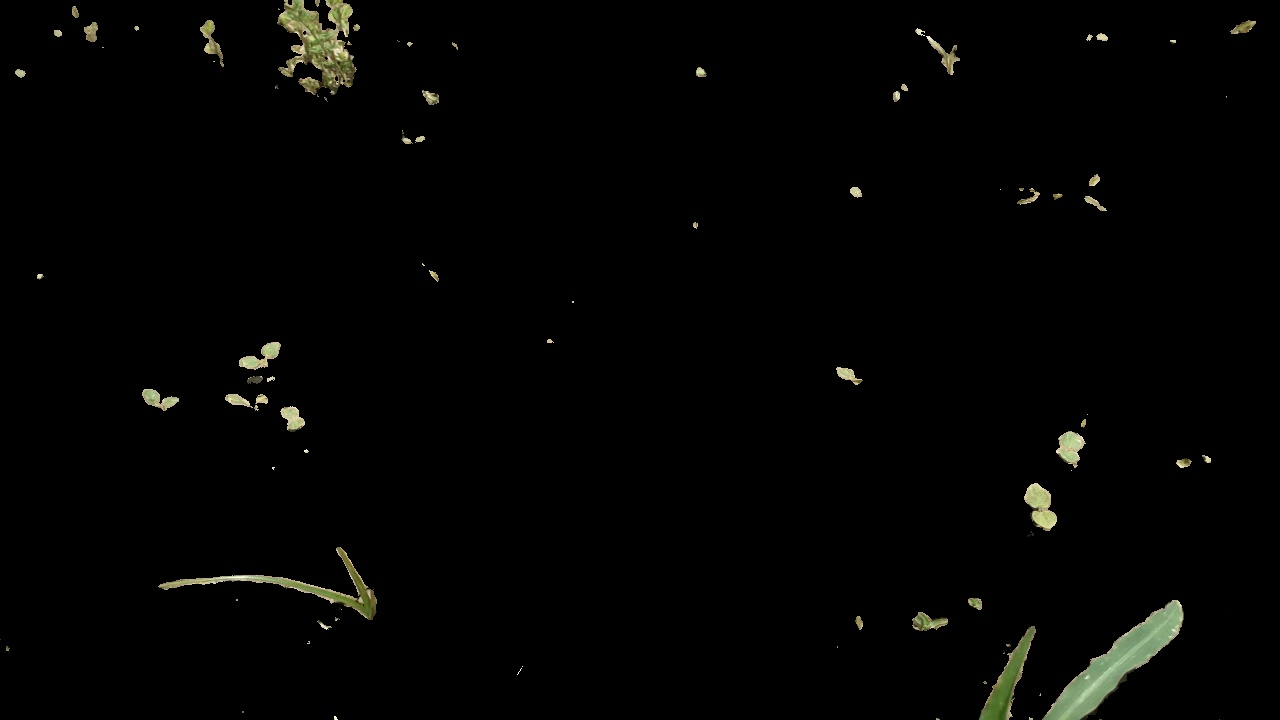crop: (975, 595, 1189, 720)
weed: (158, 541, 382, 618), (268, 2, 362, 97), (906, 25, 965, 82), (1043, 424, 1096, 474), (193, 21, 228, 81), (1023, 475, 1059, 532), (225, 342, 288, 369), (219, 382, 269, 414), (276, 398, 311, 439), (138, 385, 185, 411), (909, 607, 951, 634), (831, 357, 859, 387), (845, 179, 869, 202)
